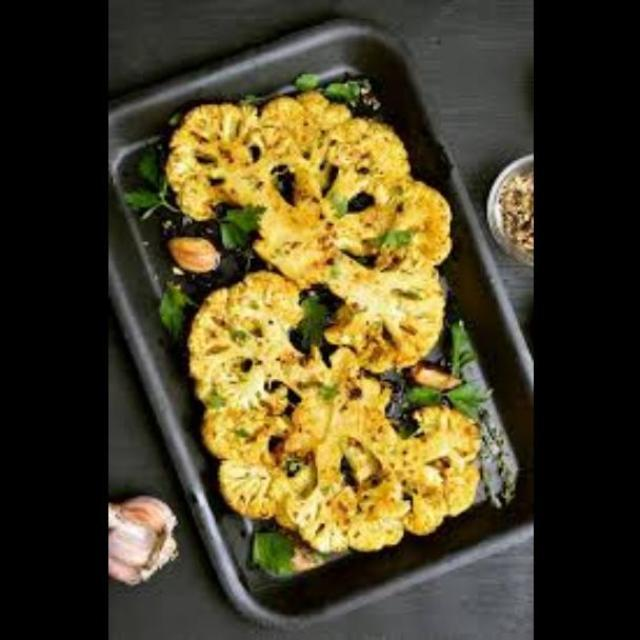cayliflower: (177, 69, 457, 444), (218, 372, 486, 580)
garlic: (109, 472, 182, 597)
